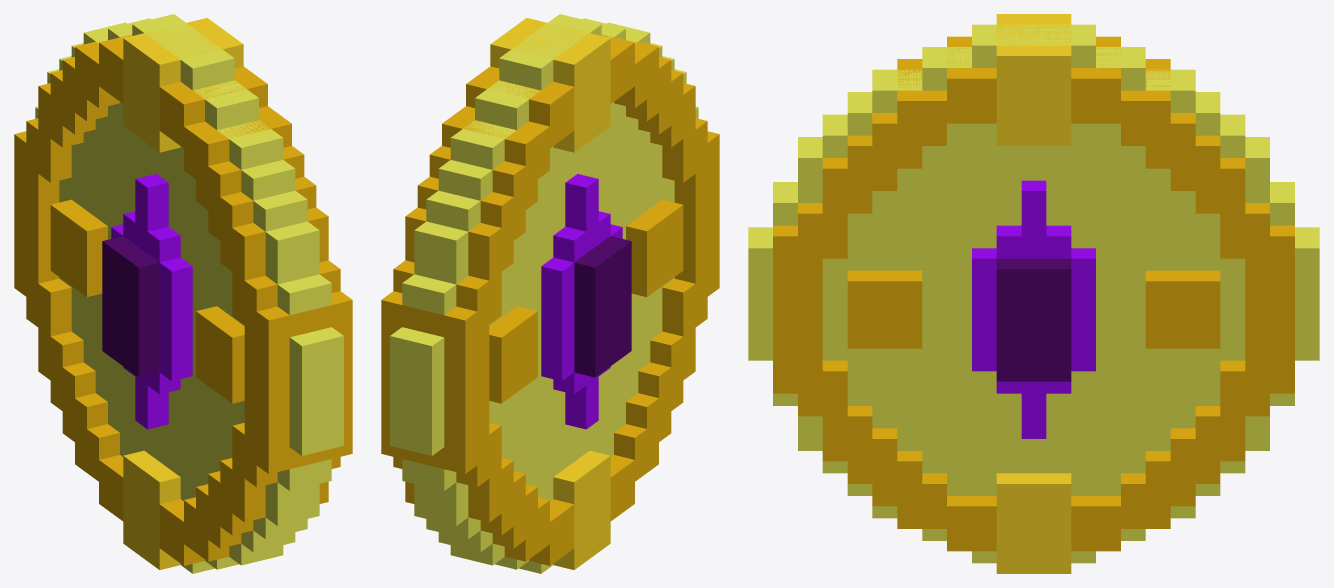
File: NewCoin 1.gltf
3 views of the same model, side by side, from view 1: azimuth 30°, elevation 25°; view 2: azimuth 150°, elevation 25°; view 3: azimuth 270°, elevation 25° (orthographic). The views are drawn at different scales.
Parts seen in each view (by area): view 1: cube (×50); view 2: cube (×50); view 3: cube (×49).
Part boxes in pixels (bbox=[...]): cube (×50): bbox=[14, 14, 352, 573]; cube (×50): bbox=[381, 14, 719, 573]; cube (×49): bbox=[748, 14, 1319, 573].
Size of the model in its own units: 0.375 by 1.44 by 1.44.
5 materials, 5 textured.
